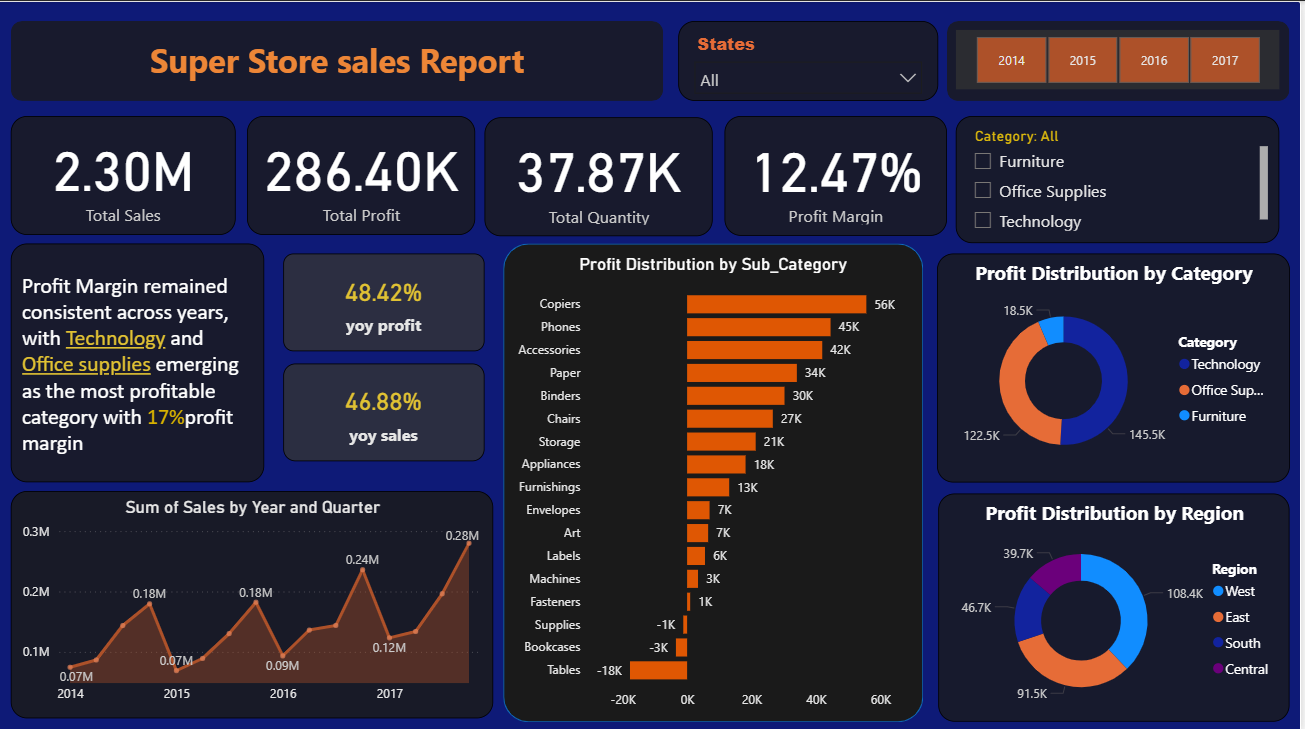

The dashboard page shown, as its layout file describes it:
{"tool":"powerbi","page":{"name":"Page 1","canvas":[1280,720],"ordinal":0},"visuals":[{"type":"shape","box":[13.5,19.6,640.5,78.5],"z":0},{"type":"textbox","box":[13.5,31.9,640.5,66.3],"z":1000},{"type":"shape","box":[932.5,20,336.2,78.8],"z":2000},{"type":"slicer","fields":{"Values":["date.year"]},"box":[941.2,28.8,317.5,58.8],"z":3000},{"type":"shape","box":[496.9,238,412.3,469.9],"z":4000},{"type":"clusteredBarChart","title":"Profit Distribution by Sub_Category","fields":{"Y":["Sum(sales.Profit)"],"Category":["Products.Sub_Category"]},"box":[501.8,247.9,402.5,456.4],"z":5000},{"type":"card","fields":{"Values":["sales.Total Sales"]},"box":[14.1,112.8,220.5,116.7],"z":6000},{"type":"card","fields":{"Values":["sales.Total Profit"]},"box":[244.9,112.8,224.4,116.7],"z":7000},{"type":"card","fields":{"Values":["sales.Total Quantity"]},"box":[478.2,114.1,224.4,116.7],"z":8000},{"type":"donutChart","title":"Profit  Distribution by Region","fields":{"Category":["Location.Region"],"Y":["Sum(sales.Profit)"]},"box":[924.4,483.3,344.9,224.4],"z":9000},{"type":"slicer","fields":{"Values":["Location.States"]},"box":[668.7,19.6,255.2,78.5],"z":10000},{"type":"lineChart","fields":{"Y":["Sum(sales.Sales)"],"Category":["date.Date.Variation.Date Hierarchy.Year","date.Date.Variation.Date Hierarchy.Quarter"]},"box":[13.5,481,473.6,223.3],"z":11000},{"type":"card","fields":{"Values":["sales.Profit Margin"]},"box":[714.1,112.9,218.4,117.8],"z":12000},{"type":"slicer","fields":{"Values":["Products.Category"]},"box":[941.2,112.5,317.5,125],"z":13000},{"type":"donutChart","title":"Profit Distribution by Category","fields":{"Category":["Products.Category"],"Y":["sales.Total Profit"]},"box":[922.7,247.9,346,224.5],"z":14000},{"type":"textbox","box":[13.5,238,249.1,234.4],"z":15000},{"type":"card","fields":{"Values":["sales.yoy profit"]},"box":[281,247.9,197.5,95.7],"z":16000},{"type":"card","fields":{"Values":["sales.yoy sales"]},"box":[281,355.8,197.5,95.7],"z":17000}]}

Visuals, with their boxes in screenshot pixels (x1, y1, x2, y2), scaled from the page's 1280x720 canvas onto the 1305x729 screenshot:
shape: (14,20,667,99)
textbox: (14,32,667,99)
shape: (951,20,1293,100)
slicer - date.year: (960,29,1283,89)
shape: (507,241,927,717)
"Profit Distribution by Sub_Category" clusteredBarChart: (512,251,922,713)
card - sales.Total Sales: (14,114,239,232)
card - sales.Total Profit: (250,114,478,232)
card - sales.Total Quantity: (488,116,716,234)
"Profit  Distribution by Region" donutChart: (942,489,1294,717)
slicer - Location.States: (682,20,942,99)
lineChart - Sum(sales.Sales) x date.Date.Variation.Date Hierarchy.Year: (14,487,497,713)
card - sales.Profit Margin: (728,114,951,234)
slicer - Products.Category: (960,114,1283,240)
"Profit Distribution by Category" donutChart: (941,251,1293,478)
textbox: (14,241,268,478)
card - sales.yoy profit: (286,251,488,348)
card - sales.yoy sales: (286,360,488,457)
